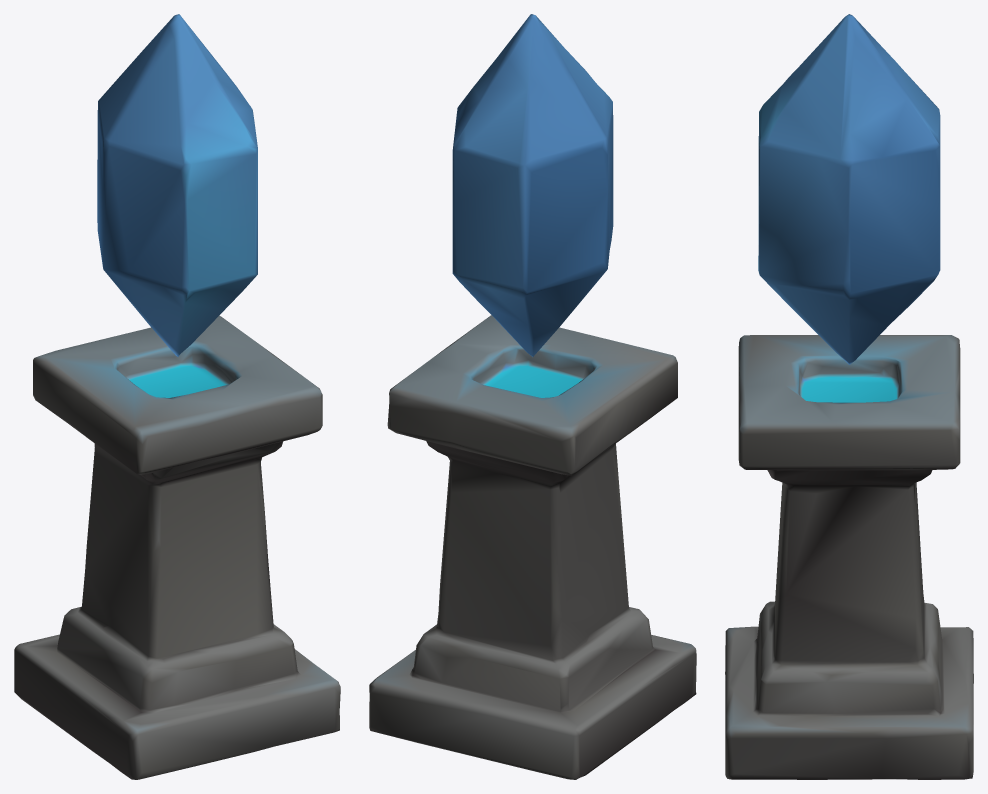
File: gen3d-crystal-pedestal-lod1.glb
3 renders of one model, left to right at view 1: azimuth 30°, elevation 25°; view 2: azimuth 150°, elevation 25°; view 3: azimuth 270°, elevation 25°, orthographic. The views are drawn at different scales.
Visible parts, largest first — view 1: part_0; view 2: part_0; view 3: part_0.
Boxes of the visible parts, x1,y1,x2,y2 form: part_0: [14, 14, 340, 779]; part_0: [369, 14, 696, 779]; part_0: [725, 14, 973, 779].
Bounding box in the file's own units: 0.3156 × 0.9987 × 0.3156.
